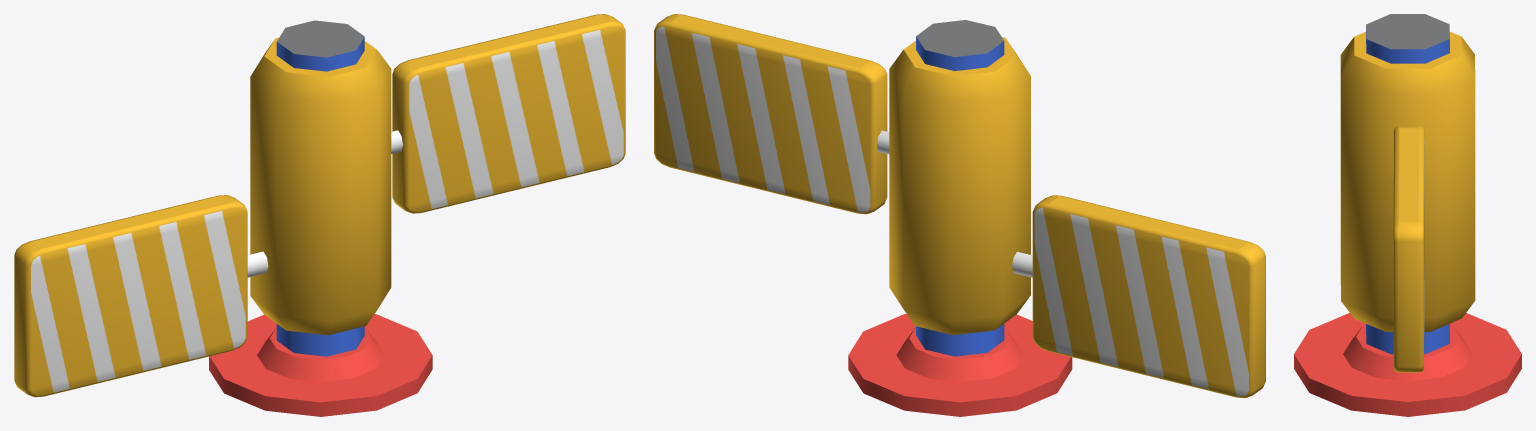
The model's file is newOb.fbx.
The picture shows the model from 3 angles, left to right: view 1: azimuth 30°, elevation 25°; view 2: azimuth 150°, elevation 25°; view 3: azimuth 270°, elevation 25°; orthographic projection.
Visible parts, largest first — view 1: obs1__1_; view 2: obs1__1_; view 3: obs1__1_.
Part boxes in pixels (box(x1,y1,x2,y2)): obs1__1_: box(14, 14, 625, 416); obs1__1_: box(654, 14, 1265, 416); obs1__1_: box(1294, 14, 1521, 416).
Size of the model in its own units: 7.23 by 2.33 by 3.81.
